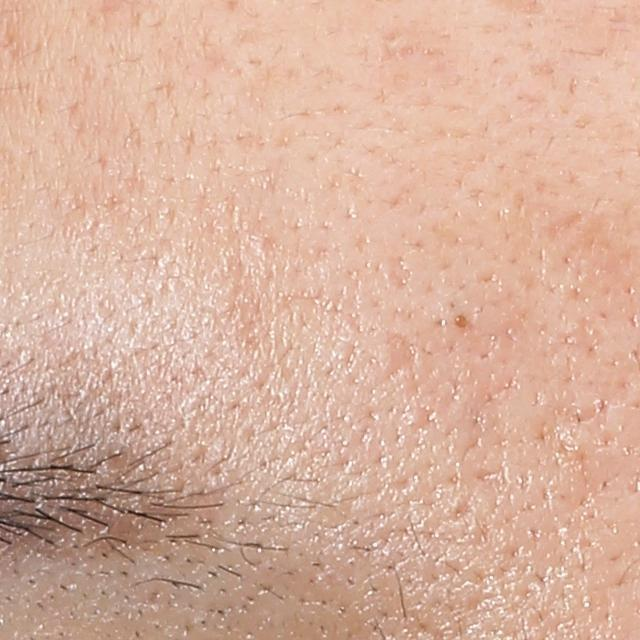atrophic_scar: (384, 331, 418, 379)
comedo: (450, 312, 472, 333)
